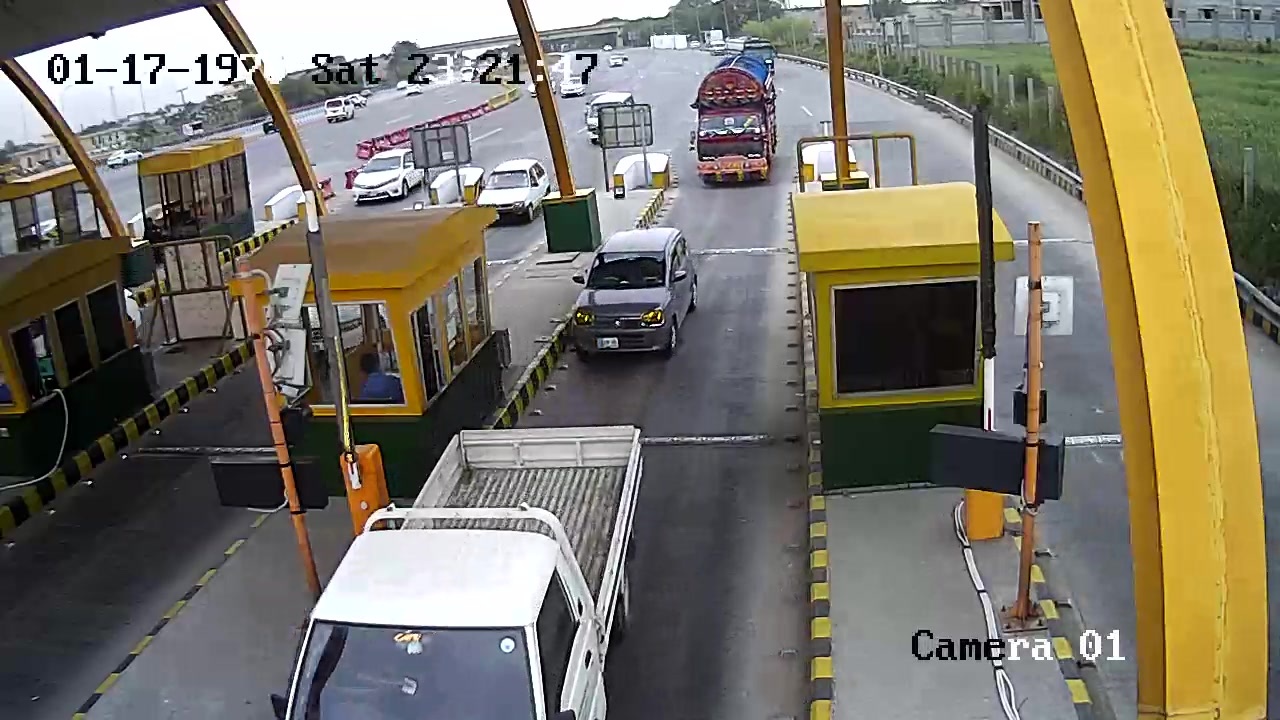F1: (564, 222, 700, 368)
